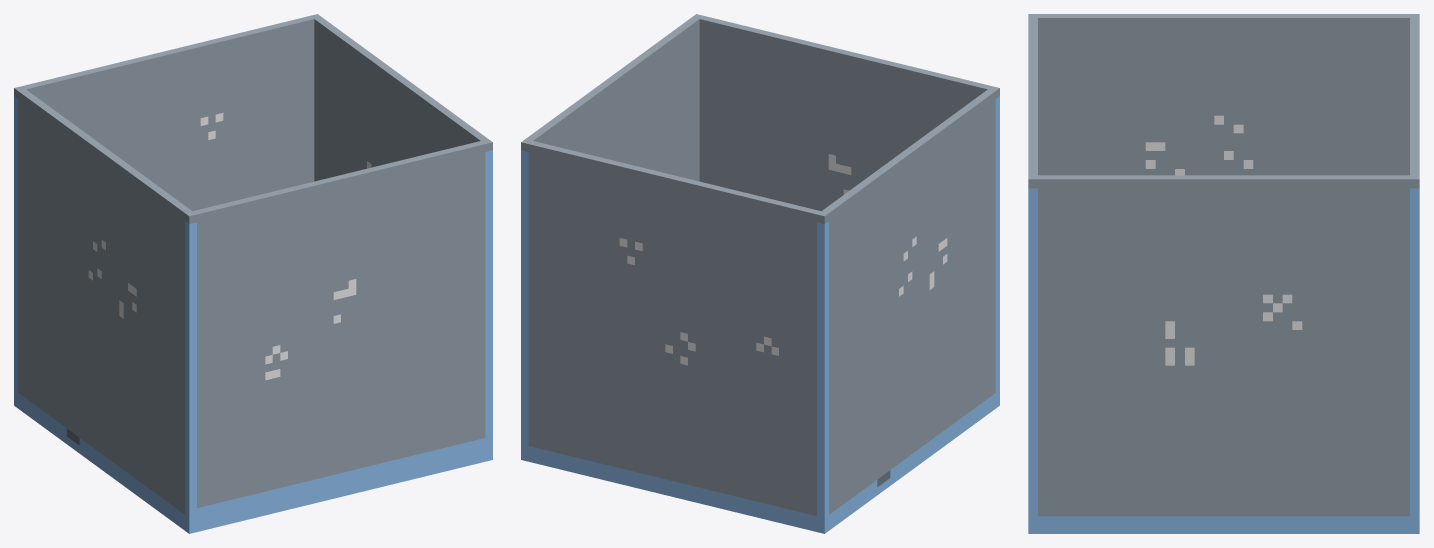
File: room.obj
The picture shows the model from 3 angles, left to right: view 1: azimuth 30°, elevation 25°; view 2: azimuth 150°, elevation 25°; view 3: azimuth 270°, elevation 25°; orthographic projection. The views are drawn at different scales.
Visible parts, largest first — view 1: room; view 2: room; view 3: room.
Part boxes in pixels (left/top/right/bottom): room: left=14, top=14, right=492, bottom=533; room: left=521, top=14, right=999, bottom=533; room: left=1028, top=14, right=1419, bottom=533.
Bounding box in the file's own units: 40 × 40 × 40.
Materials: 1 (1 with a texture image).
